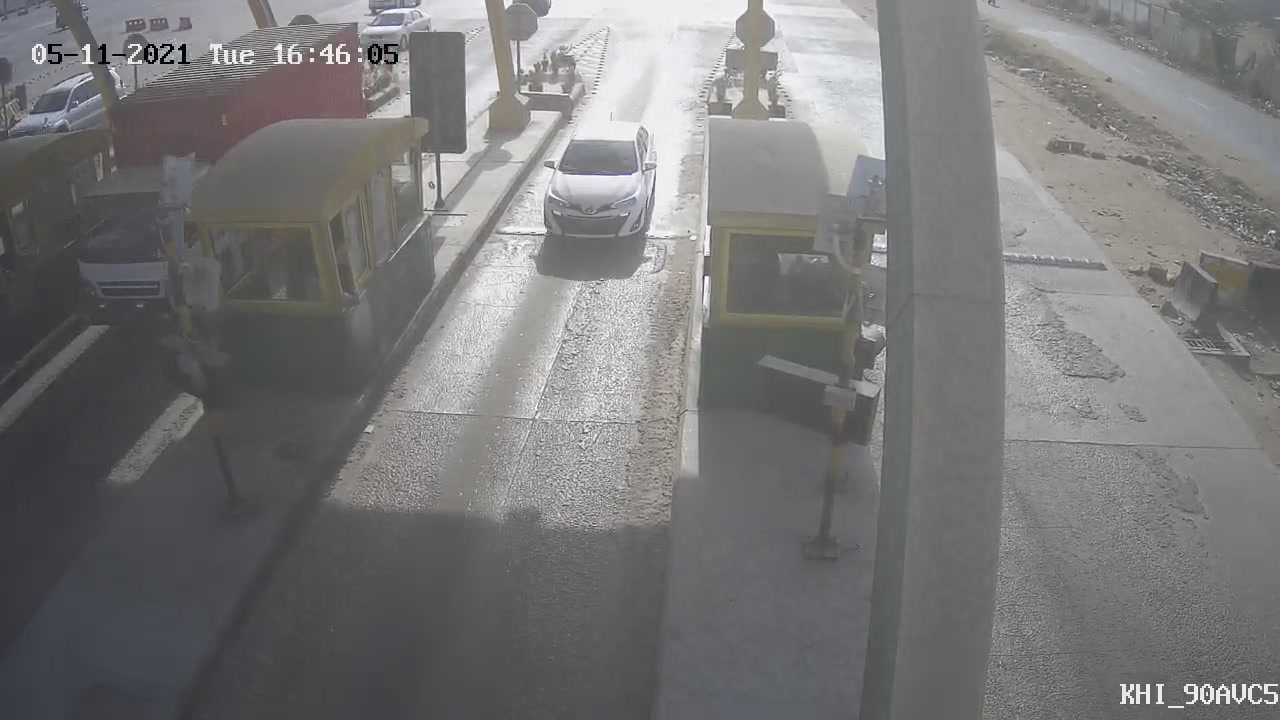F1: (522, 98, 672, 270)
